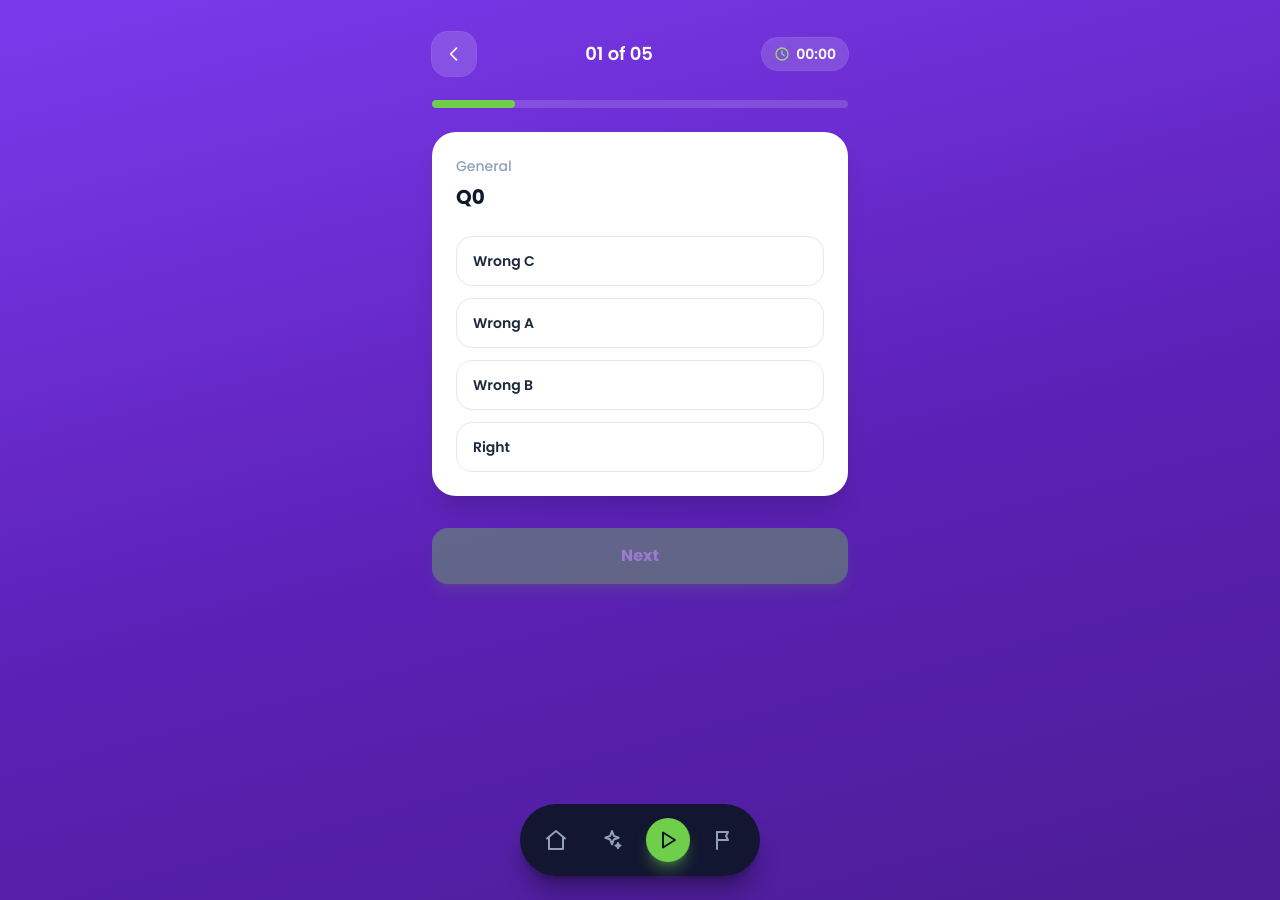
Test: Play page › cancels back to Home
Expected: the button "Right" is shown, [456,422,824,472]
Click the button named "Cancel quiz". click: (454,54)
box: [432,32,476,76]
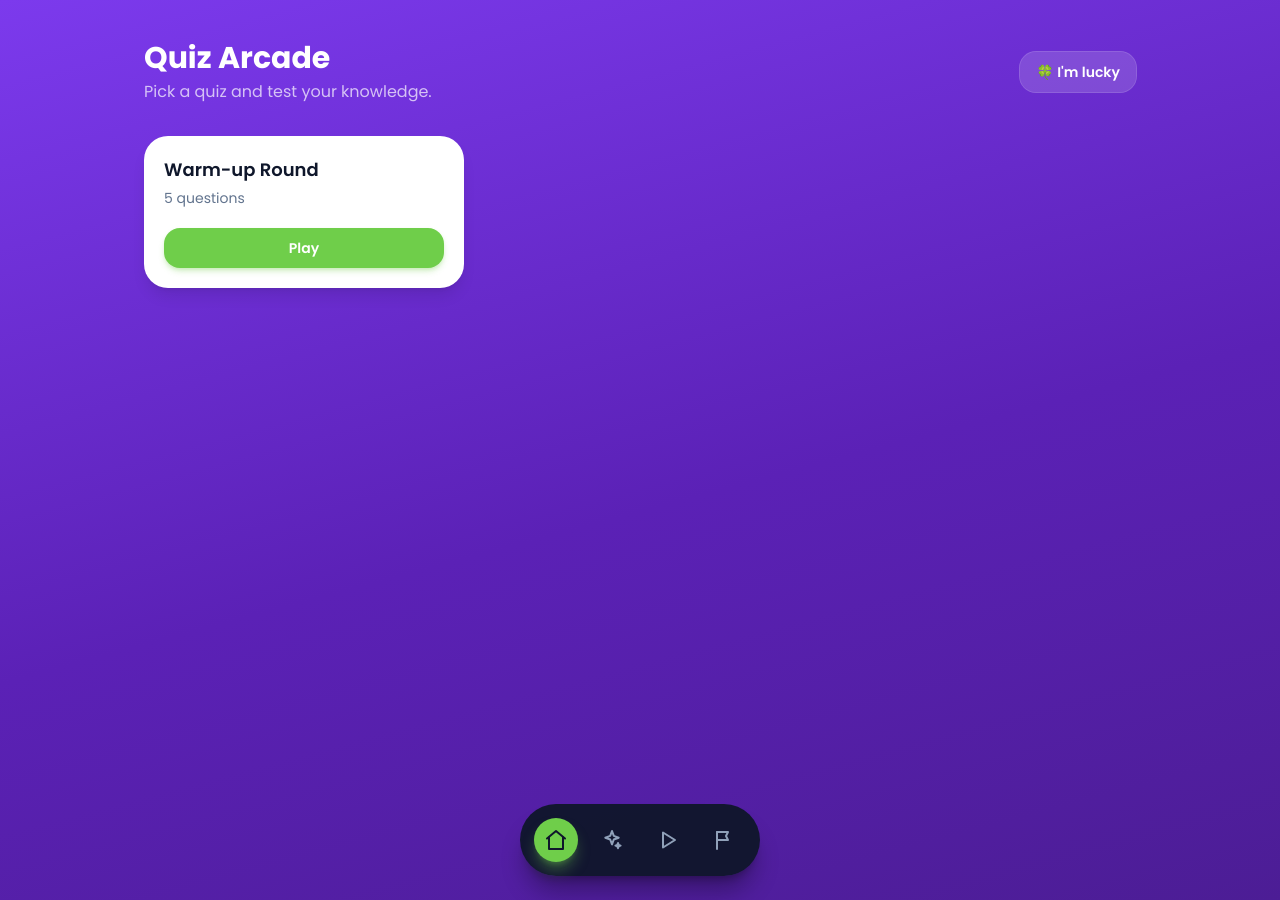
Result: the heading "Quiz Arcade" is shown at [144,37,330,79]
